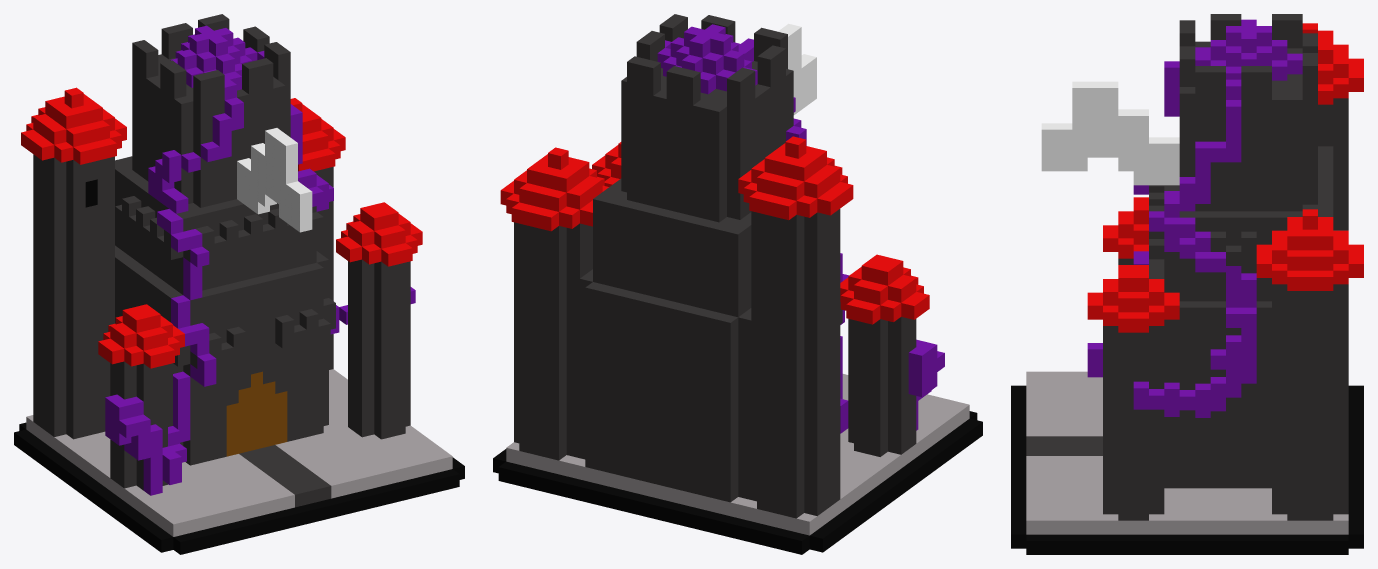
The model's file is World Castle.gltf.
The picture shows the model from 3 angles, left to right: view 1: azimuth 30°, elevation 25°; view 2: azimuth 150°, elevation 25°; view 3: azimuth 270°, elevation 25°; orthographic projection. The views are drawn at different scales.
Parts seen in each view (by area): view 1: Layer.1; view 2: Layer.1; view 3: Layer.1.
Boxes of the visible parts, x1,y1,x2,y2 form: Layer.1: (14, 14, 464, 554); Layer.1: (493, 14, 982, 554); Layer.1: (1011, 14, 1363, 554).
Bounding box in the file's own units: 25 × 32 × 23.
1 material, 1 textured.
